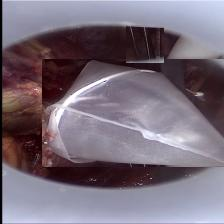Grasper: (125, 26, 163, 63)
Specimen Bag: (41, 59, 224, 167)
